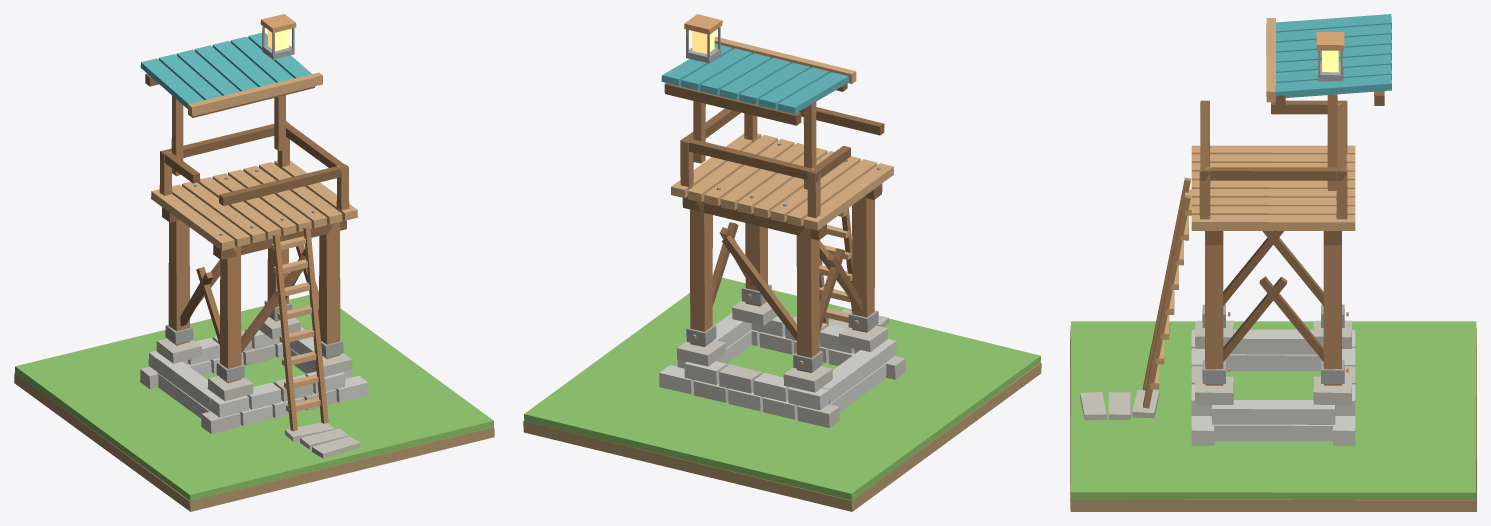
The model's file is tower_l01_active_LOD2.glb.
3 views of the same model, side by side, from view 1: azimuth 30°, elevation 25°; view 2: azimuth 150°, elevation 25°; view 3: azimuth 270°, elevation 25° (orthographic). The views are drawn at different scales.
Visible parts, largest first — view 1: tower_l01_grass_tile_tower_l01_active_LOD2_tmp, tower_l01_earth_tile_tower_l01_active_LOD2_tmp, upright_0.58_-0.52_tower_l01_active_LOD2_tmp, upright_-0.58_-0.52_tower_l01_active_LOD2_tmp, upright_-0.58_0.52_tower_l01_active_LOD2_tmp, canopy_front_trim_tower_l01_active_LOD2_tmp, parapet_long_-0.6_tower_l01_active_LOD2_tmp, deck_board_0_tower_l01_active_LOD2_tmp, ladder_rail_-0.18_tower_l01_active_LOD2_tmp, ladder_rail_0.18_tower_l01_active_LOD2_tmp, plinth_return_1_-0.73_tower_l01_active_LOD2_tmp, parapet_long_0.6_tower_l01_active_LOD2_tmp (+32 smaller); view 2: tower_l01_grass_tile_tower_l01_active_LOD2_tmp, tower_l01_earth_tile_tower_l01_active_LOD2_tmp, upright_-0.58_0.52_tower_l01_active_LOD2_tmp, upright_0.58_0.52_tower_l01_active_LOD2_tmp, upright_-0.58_-0.52_tower_l01_active_LOD2_tmp, deck_board_0_tower_l01_active_LOD2_tmp, parapet_long_0.6_tower_l01_active_LOD2_tmp, canopy_crossbar_0.93_tower_l01_active_LOD2_tmp, plinth_return_1_-0.73_tower_l01_active_LOD2_tmp, deck_bearer_0.52_tower_l01_active_LOD2_tmp, rear_brace_0.52_tower_l01_active_LOD2_tmp, canopy_board_0_tower_l01_active_LOD2_tmp (+36 smaller); view 3: tower_l01_grass_tile_tower_l01_active_LOD2_tmp, tower_l01_earth_tile_tower_l01_active_LOD2_tmp, plinth_return_1_0.73_tower_l01_active_LOD2_tmp, deck_board_8_tower_l01_active_LOD2_tmp, upright_0.58_-0.52_tower_l01_active_LOD2_tmp, upright_0.58_0.52_tower_l01_active_LOD2_tmp, plinth_return_0_0.73_tower_l01_active_LOD2_tmp, canopy_board_6_tower_l01_active_LOD2_tmp, parapet_right_tower_l01_active_LOD2_tmp, plinth_return_1_-0.73_tower_l01_active_LOD2_tmp, plinth_return_0_-0.73_tower_l01_active_LOD2_tmp, ladder_rail_0.18_tower_l01_active_LOD2_tmp (+35 smaller).
Part boxes in pixels (bbox=[...]): tower_l01_grass_tile_tower_l01_active_LOD2_tmp: bbox=[15, 295, 493, 501]; tower_l01_earth_tile_tower_l01_active_LOD2_tmp: bbox=[14, 372, 494, 511]; upright_0.58_-0.52_tower_l01_active_LOD2_tmp: bbox=[319, 222, 340, 358]; upright_-0.58_-0.52_tower_l01_active_LOD2_tmp: bbox=[220, 245, 241, 383]; upright_-0.58_0.52_tower_l01_active_LOD2_tmp: bbox=[168, 220, 189, 345]; canopy_front_trim_tower_l01_active_LOD2_tmp: bbox=[188, 72, 322, 116]; parapet_long_-0.6_tower_l01_active_LOD2_tmp: bbox=[219, 164, 348, 205]; deck_board_0_tower_l01_active_LOD2_tmp: bbox=[151, 189, 234, 250]; ladder_rail_-0.18_tower_l01_active_LOD2_tmp: bbox=[272, 234, 297, 431]; ladder_rail_0.18_tower_l01_active_LOD2_tmp: bbox=[303, 226, 328, 423]; plinth_return_1_-0.73_tower_l01_active_LOD2_tmp: bbox=[157, 357, 217, 411]; parapet_long_0.6_tower_l01_active_LOD2_tmp: bbox=[160, 121, 289, 160]; tower_l01_grass_tile_tower_l01_active_LOD2_tmp: bbox=[524, 277, 1040, 500]; tower_l01_earth_tile_tower_l01_active_LOD2_tmp: bbox=[523, 362, 1041, 511]; upright_-0.58_0.52_tower_l01_active_LOD2_tmp: bbox=[796, 228, 819, 372]; upright_0.58_0.52_tower_l01_active_LOD2_tmp: bbox=[690, 201, 712, 346]; upright_-0.58_-0.52_tower_l01_active_LOD2_tmp: bbox=[852, 195, 874, 332]; deck_board_0_tower_l01_active_LOD2_tmp: bbox=[803, 163, 893, 230]; parapet_long_0.6_tower_l01_active_LOD2_tmp: bbox=[680, 137, 820, 182]; canopy_crossbar_0.93_tower_l01_active_LOD2_tmp: bbox=[664, 83, 801, 125]; plinth_return_1_-0.73_tower_l01_active_LOD2_tmp: bbox=[822, 345, 887, 403]; deck_bearer_0.52_tower_l01_active_LOD2_tmp: bbox=[682, 196, 826, 240]; rear_brace_0.52_tower_l01_active_LOD2_tmp: bbox=[722, 235, 796, 340]; canopy_board_0_tower_l01_active_LOD2_tmp: bbox=[777, 72, 848, 113]; tower_l01_grass_tile_tower_l01_active_LOD2_tmp: bbox=[1070, 321, 1476, 500]; tower_l01_earth_tile_tower_l01_active_LOD2_tmp: bbox=[1070, 328, 1476, 511]; plinth_return_1_0.73_tower_l01_active_LOD2_tmp: bbox=[1211, 400, 1335, 424]; deck_board_8_tower_l01_active_LOD2_tmp: bbox=[1191, 215, 1355, 230]; upright_0.58_-0.52_tower_l01_active_LOD2_tmp: bbox=[1205, 231, 1223, 385]; upright_0.58_0.52_tower_l01_active_LOD2_tmp: bbox=[1323, 231, 1341, 385]; plinth_return_0_0.73_tower_l01_active_LOD2_tmp: bbox=[1211, 424, 1334, 441]; canopy_board_6_tower_l01_active_LOD2_tmp: bbox=[1276, 74, 1391, 97]; parapet_right_tower_l01_active_LOD2_tmp: bbox=[1201, 167, 1345, 180]; plinth_return_1_-0.73_tower_l01_active_LOD2_tmp: bbox=[1230, 329, 1317, 354]; plinth_return_0_-0.73_tower_l01_active_LOD2_tmp: bbox=[1225, 354, 1321, 370]; ladder_rail_0.18_tower_l01_active_LOD2_tmp: bbox=[1143, 195, 1190, 408].
Size of the model in its own units: 3.57 by 4.02 by 3.57.
